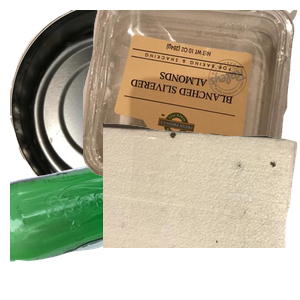glass: (10, 149, 203, 300)
metal: (10, 10, 221, 190)
plastic: (83, 10, 300, 190)
trash: (103, 120, 300, 300)
